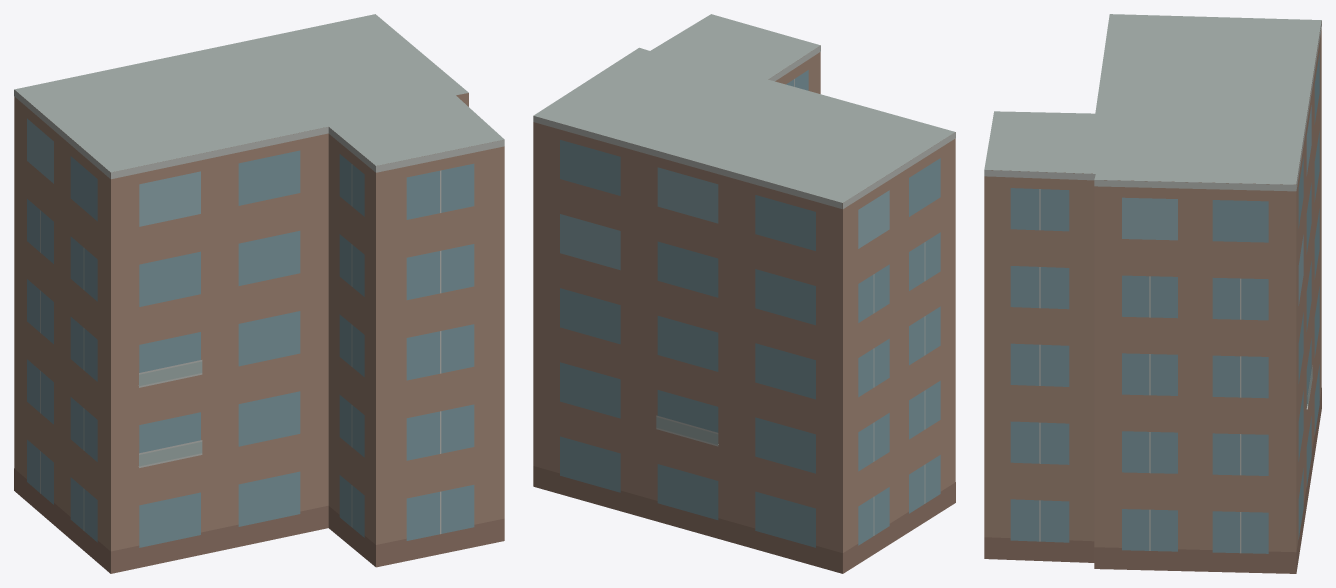
The model's file is survey-upis-32876209.glb.
3 renders of one model, left to right at view 1: azimuth 30°, elevation 25°; view 2: azimuth 150°, elevation 25°; view 3: azimuth 270°, elevation 25°, orthographic. The views are drawn at different scales.
Parts seen in each view (by area): view 1: survey-upis-32876209.tmp; view 2: survey-upis-32876209.tmp; view 3: survey-upis-32876209.tmp.
Boxes of the visible parts, x1,y1,x2,y2 form: survey-upis-32876209.tmp: [14, 14, 504, 573]; survey-upis-32876209.tmp: [533, 14, 955, 573]; survey-upis-32876209.tmp: [984, 14, 1321, 573].
Bounding box in the file's own units: 13.56 × 14.4 × 11.33.
